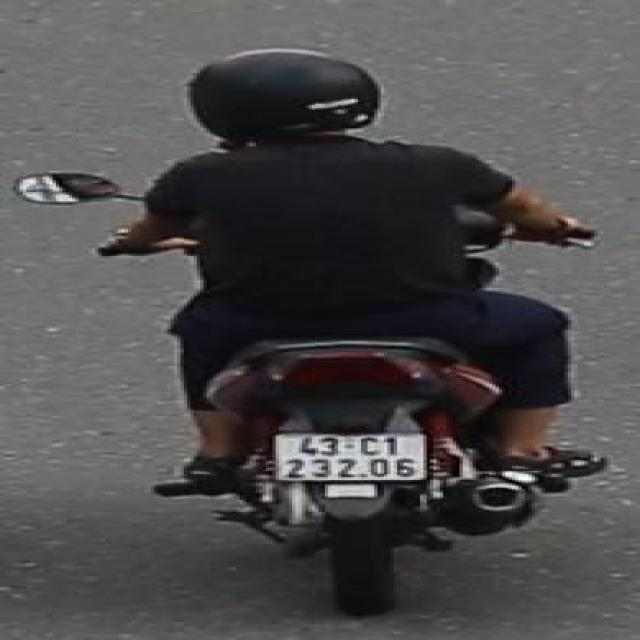LP: (269, 430, 430, 488)
helmet: (182, 42, 389, 159)
